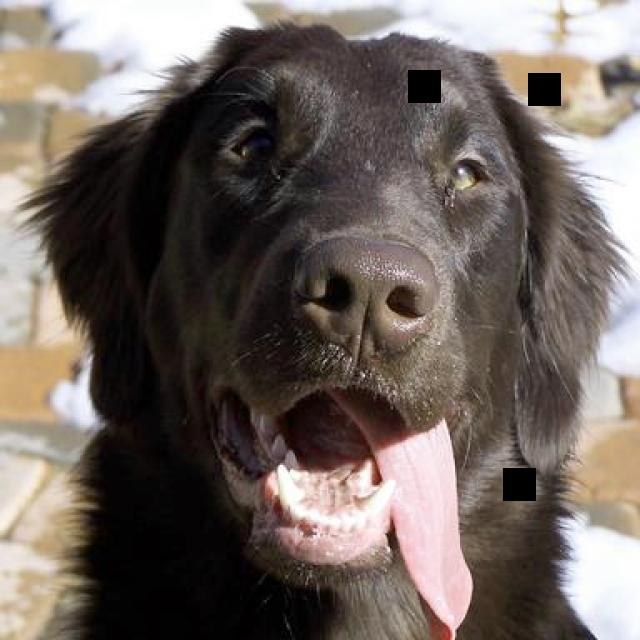adult_dog: (12, 15, 625, 640)
